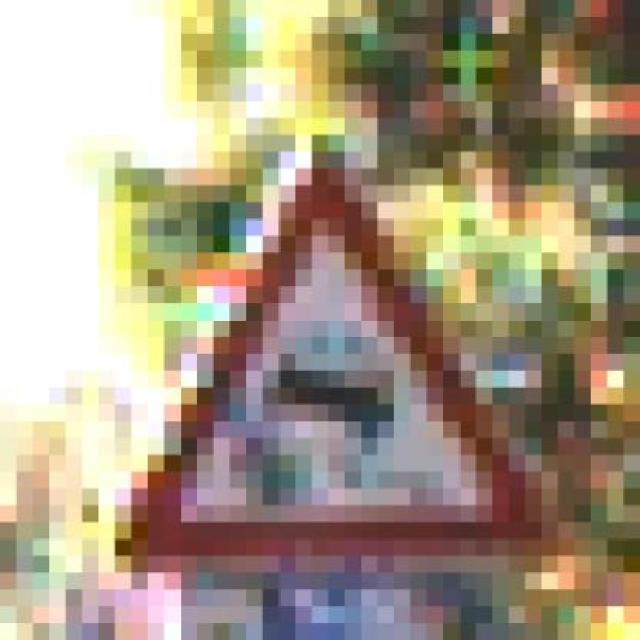Slippery Road Ahead: (99, 135, 558, 590)
